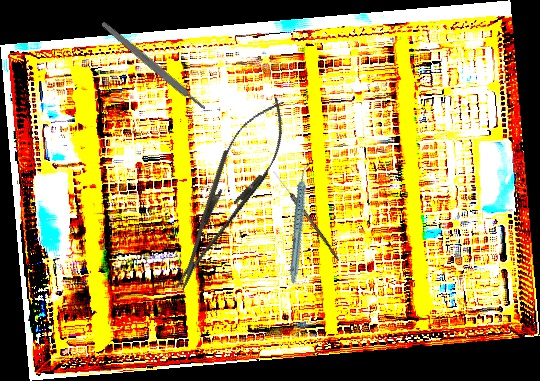Handpiece: (266, 163, 335, 284)
Needle Holder: (155, 87, 303, 301)
Scalpel Handle: (99, 20, 208, 112)
Surgical Spoon: (271, 169, 342, 262)
